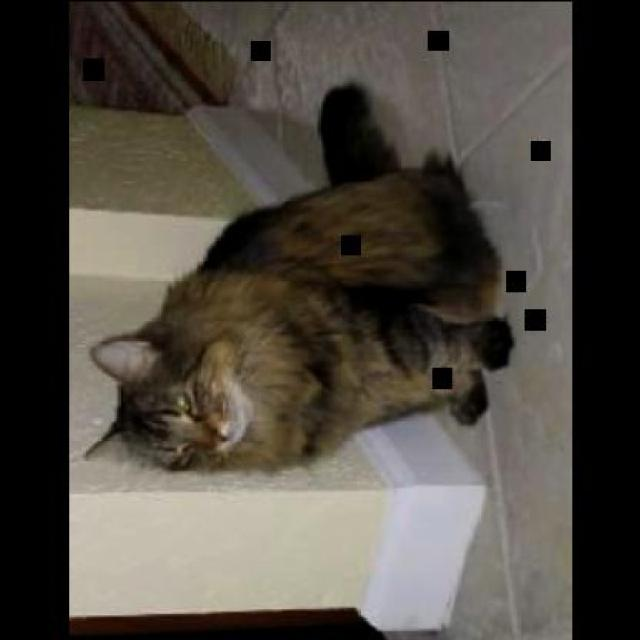unauthorized: (81, 81, 514, 474)
